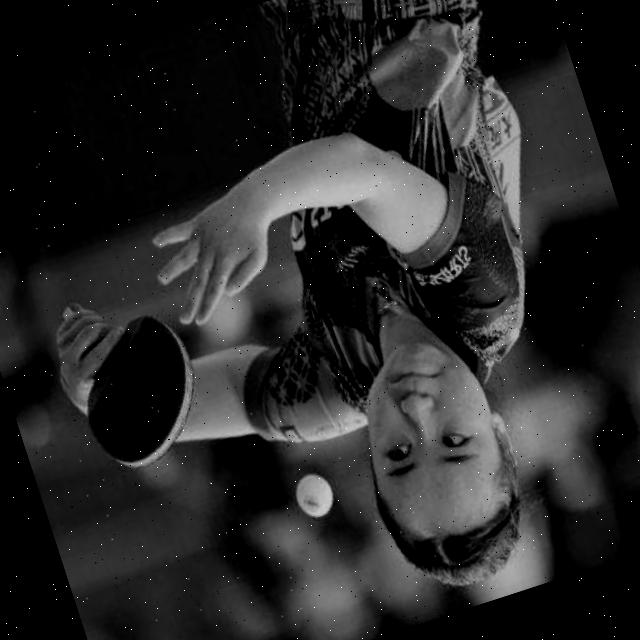ping-pong-ball: (286, 467, 341, 528)
